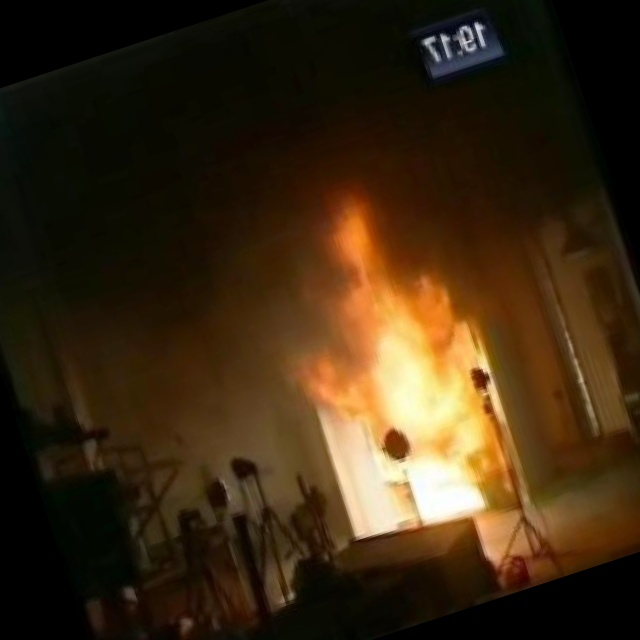fire: (265, 173, 515, 497)
smoke: (0, 0, 608, 370)
